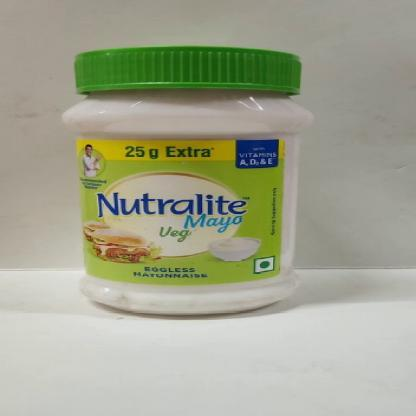Nutralite VEG MAYO 300g-275g-25g-: (70, 48, 302, 313)
